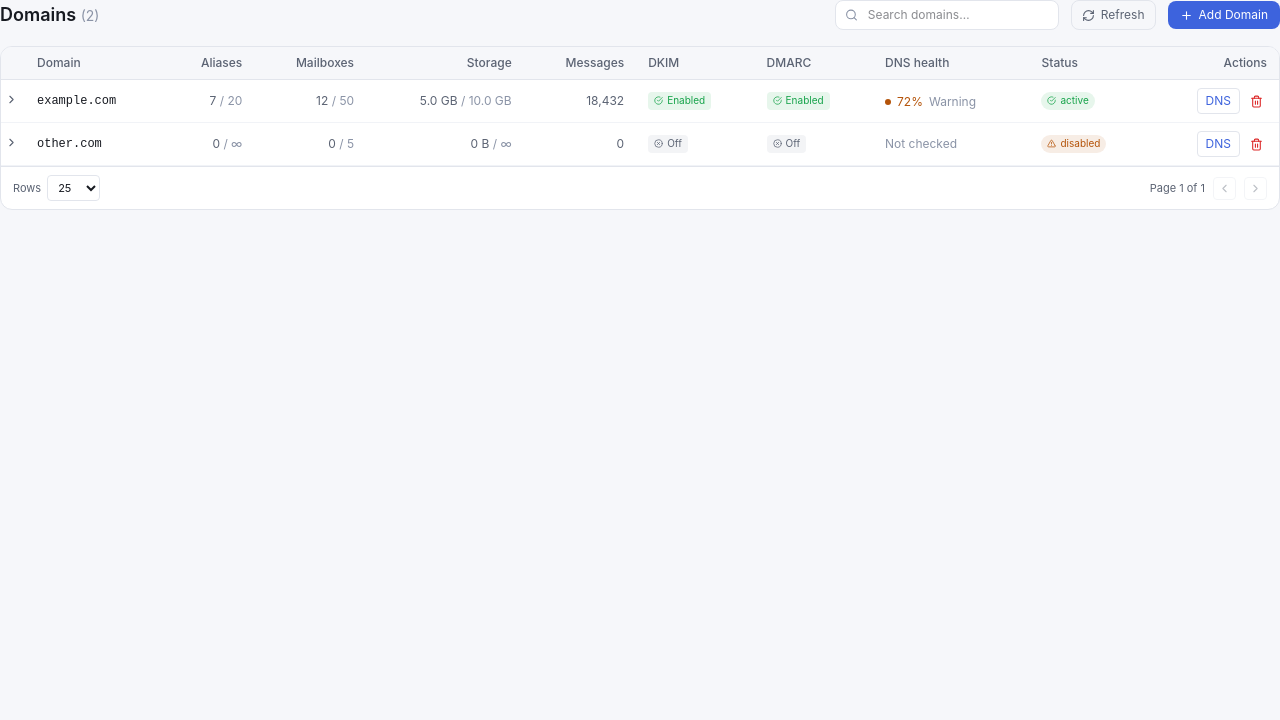
DNS records modal › renders one row per record type with the API's verbatim reason text
This screenshot has width=1280, height=720.
Expected: the text "example.com" is shown, 25,80 -> 165,122
Click the button "DNS" in the row of "example.com" at (1218, 101), box 1197,88 -> 1240,114
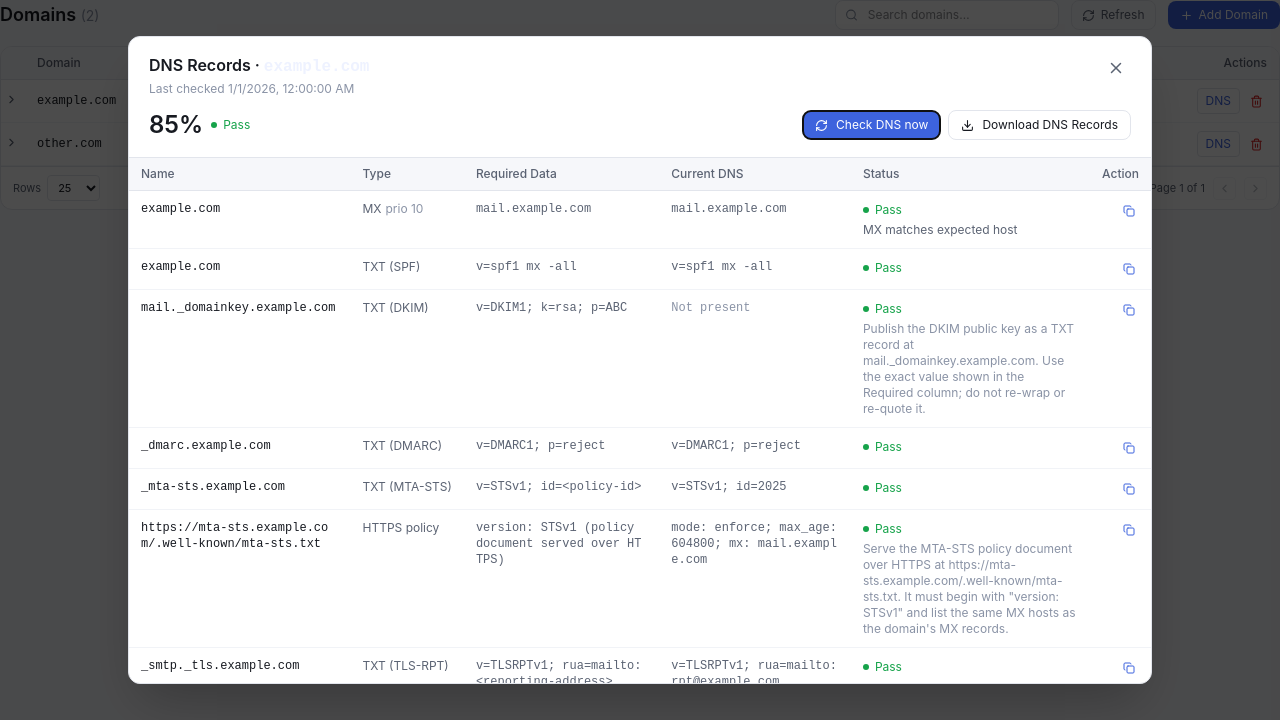
Expected: the dialog is shown
Expected: the table with test id "dns-records-table" is shown, 129,158 -> 1151,683
Expected: the row with test id "dns-row-mx" is shown, 129,190 -> 1151,248
